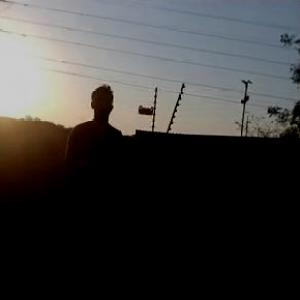follow: (57, 74, 129, 299)
